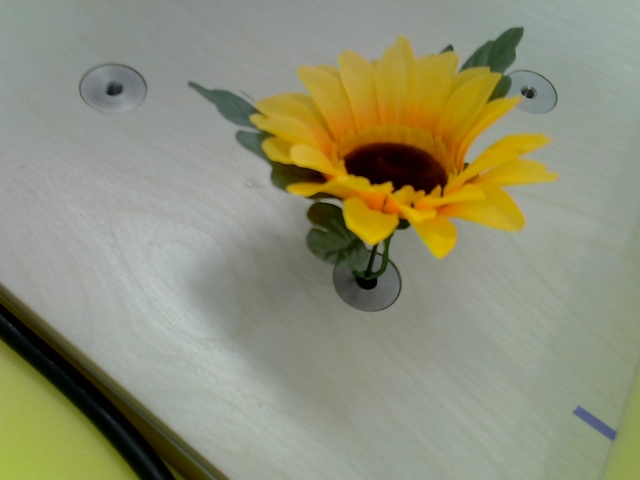해바라기: (249, 39, 553, 260)
